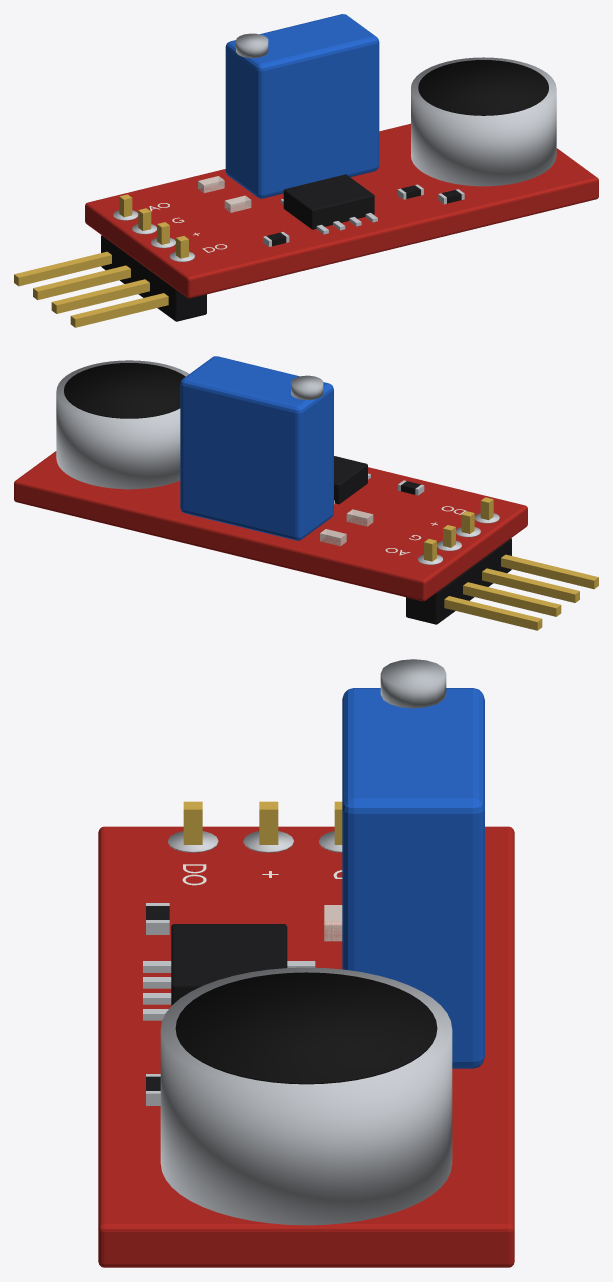
The model's file is big-sound-sensor.glb.
The picture shows the model from 3 angles, top to bottom: view 1: azimuth 30°, elevation 25°; view 2: azimuth 150°, elevation 25°; view 3: azimuth 270°, elevation 25°; orthographic projection. The views are drawn at different scales.
Visible parts, largest first — view 1: pcb.021, trimpot.005, part.070, part.071, lm393.005, header.021, pin_h.072, pin_h.073, pin_h.070, pin_h.071, trim_screw.005; view 2: pcb.021, trimpot.005, part.070, part.071, header.021, pin_h.071, pin_h.070, pin_h.073, pin_h.072, lm393.005, trim_screw.005; view 3: pcb.021, part.070, trimpot.005, part.071, lm393.005, trim_screw.005, pin_v.072, pin_v.073.
Boxes of the visible parts, <box> form: pcb.021: <box>85,123,598,298</box>; trimpot.005: <box>225,14,379,198</box>; part.070: <box>411,57,556,186</box>; part.071: <box>418,60,548,115</box>; lm393.005: <box>283,174,374,229</box>; header.021: <box>101,235,206,321</box>; pin_h.072: <box>51,279,149,313</box>; pin_h.073: <box>70,293,168,327</box>; pin_h.070: <box>14,251,111,286</box>; pin_h.071: <box>33,265,130,300</box>; trim_screw.005: <box>236,33,268,57</box>; pcb.021: <box>14,451,527,601</box>; trimpot.005: <box>180,356,333,540</box>; part.070: <box>56,360,188,489</box>; part.071: <box>64,363,185,418</box>; header.021: <box>406,538,511,624</box>; pin_h.071: <box>463,582,561,616</box>; pin_h.070: <box>444,596,542,630</box>; pin_h.073: <box>501,554,598,589</box>; pin_h.072: <box>482,568,579,602</box>; lm393.005: <box>334,456,367,504</box>; trim_screw.005: <box>291,375,323,400</box>; pcb.021: <box>98,826,514,1267</box>; part.070: <box>160,967,452,1225</box>; trimpot.005: <box>342,688,484,1068</box>; part.071: <box>175,972,437,1084</box>; lm393.005: <box>171,924,287,1005</box>; trim_screw.005: <box>380,659,446,708</box>; pin_v.072: <box>259,801,278,844</box>; pin_v.073: <box>183,801,202,844</box>.
Bounding box in the file's own units: 0.0391 × 0.0149 × 0.014.
